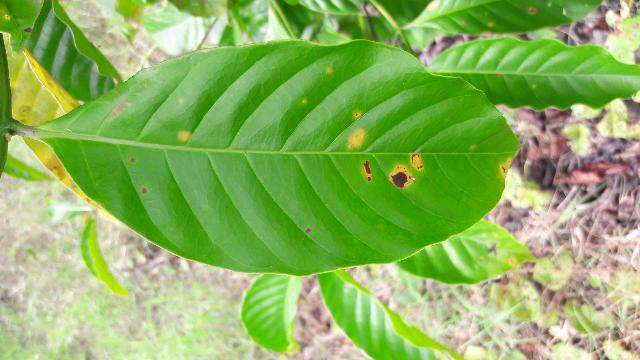rust_level_2: (36, 37, 521, 272)
